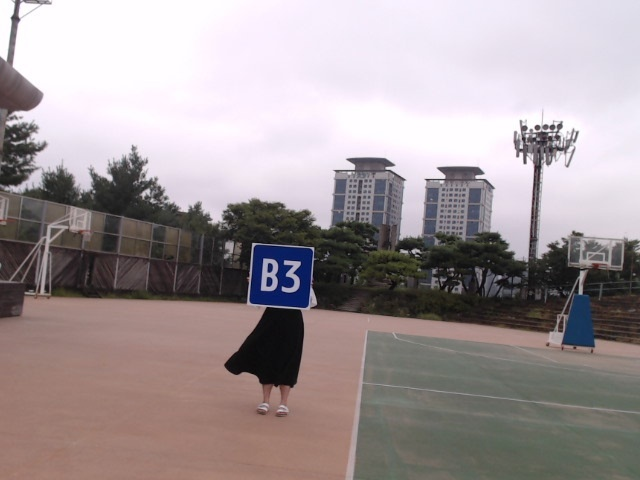delivery_b3: (248, 242, 314, 309)
